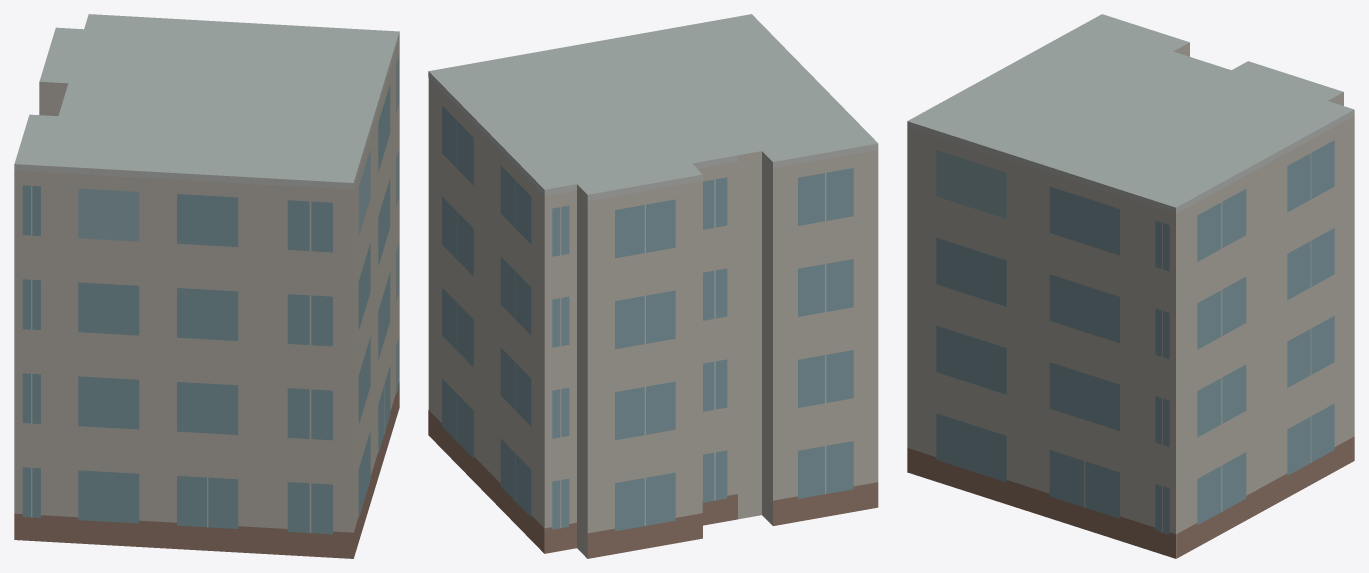
Rendered from survey-upis-32860695.glb.
3 views of the same model, side by side, from view 1: azimuth 30°, elevation 25°; view 2: azimuth 150°, elevation 25°; view 3: azimuth 270°, elevation 25° (orthographic). The views are drawn at different scales.
Visible parts, largest first — view 1: survey-upis-32860695.tmp; view 2: survey-upis-32860695.tmp; view 3: survey-upis-32860695.tmp.
Boxes of the visible parts, box(x1,y1,x2,y2) form: survey-upis-32860695.tmp: box(14, 14, 399, 558); survey-upis-32860695.tmp: box(428, 14, 878, 558); survey-upis-32860695.tmp: box(907, 14, 1354, 558).
Size of the model in its own units: 16.51 by 13.95 by 16.11.
